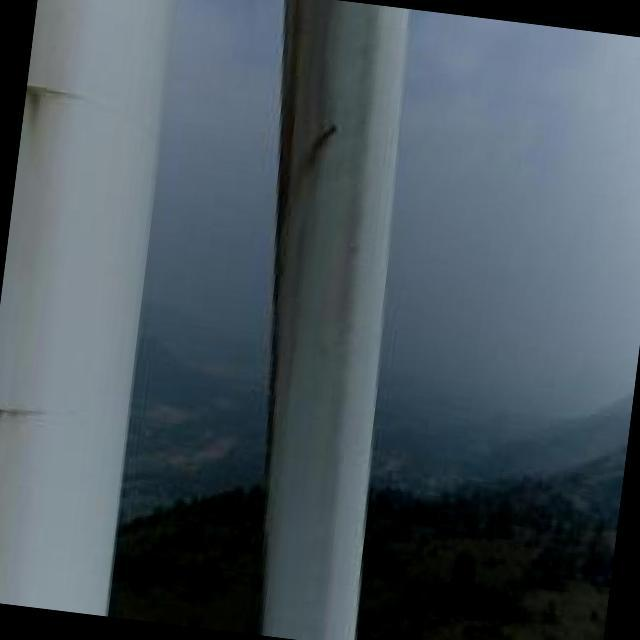Dirt: (263, 2, 382, 468), (0, 88, 79, 418)
Pin Hole: (328, 119, 342, 137)
